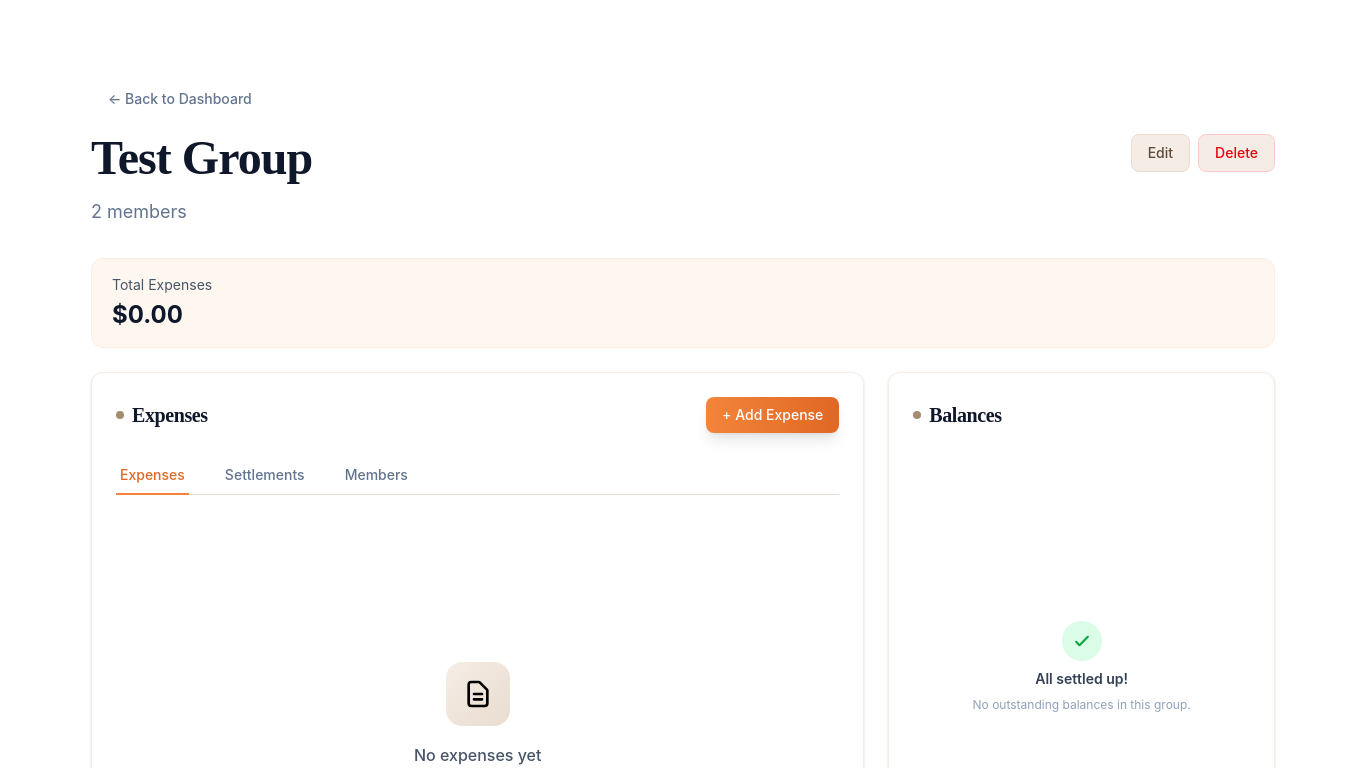
Test: GroupDetailPage › Admin Expense Edit/Delete › shows 'Paid by' selector in Add Expense modal for admins
Click the button "+ Add Expense" at (773, 415), box [706, 397, 839, 433]
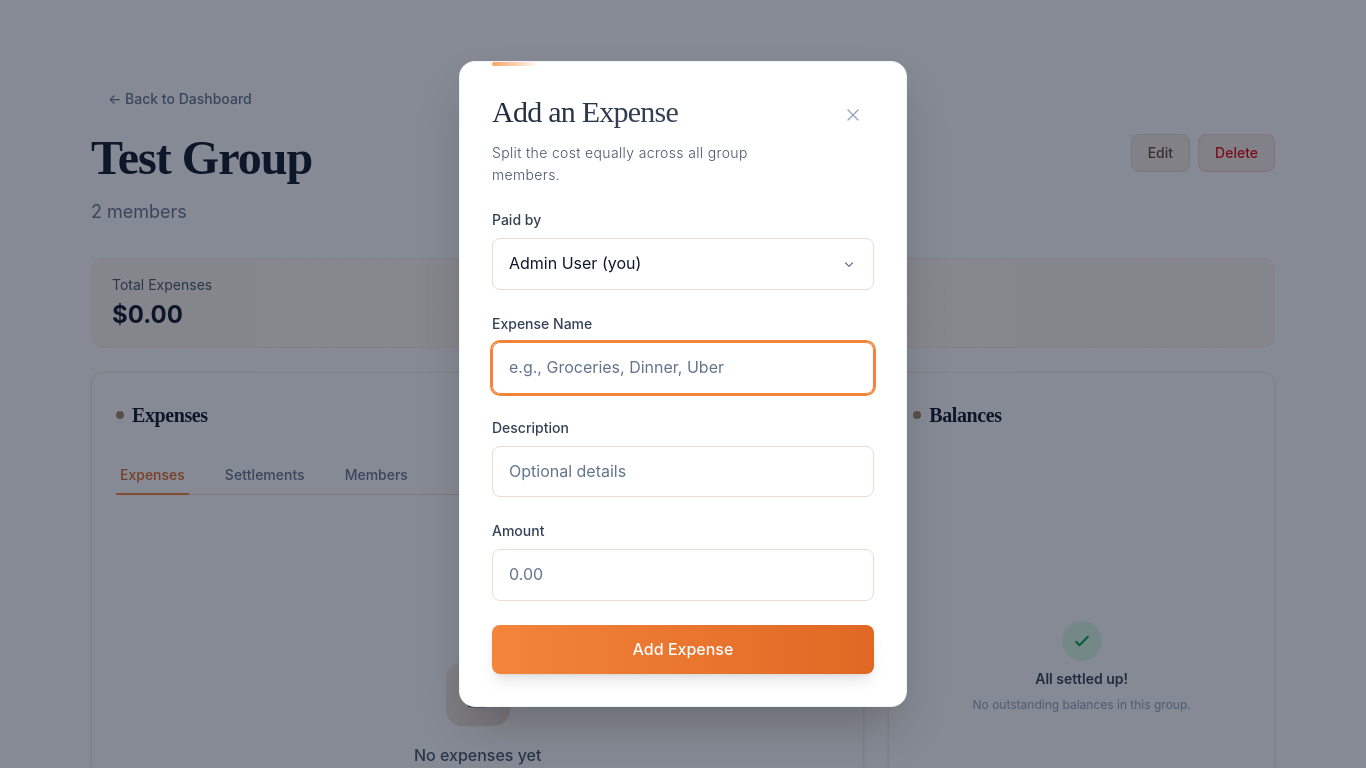
Result: the dropdown named "Paid by" is shown at [492, 238, 874, 290]
